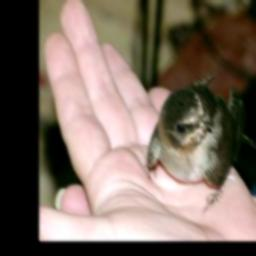Swallow: (145, 71, 256, 217)
